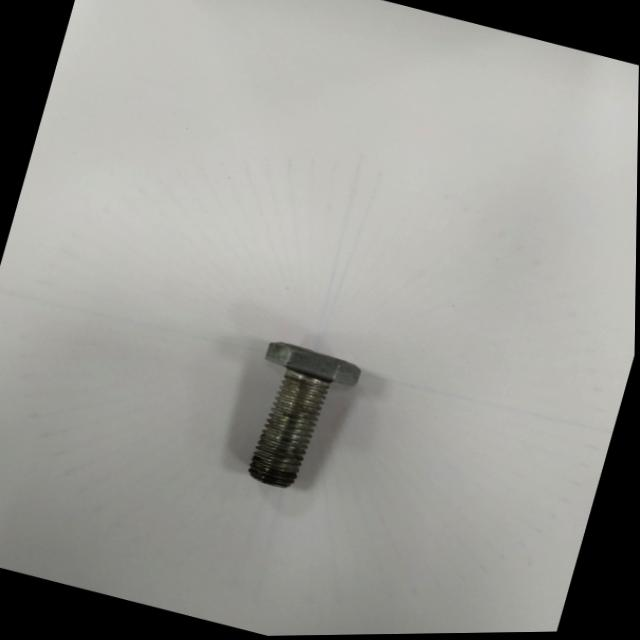Bolt: (250, 343, 361, 488)
